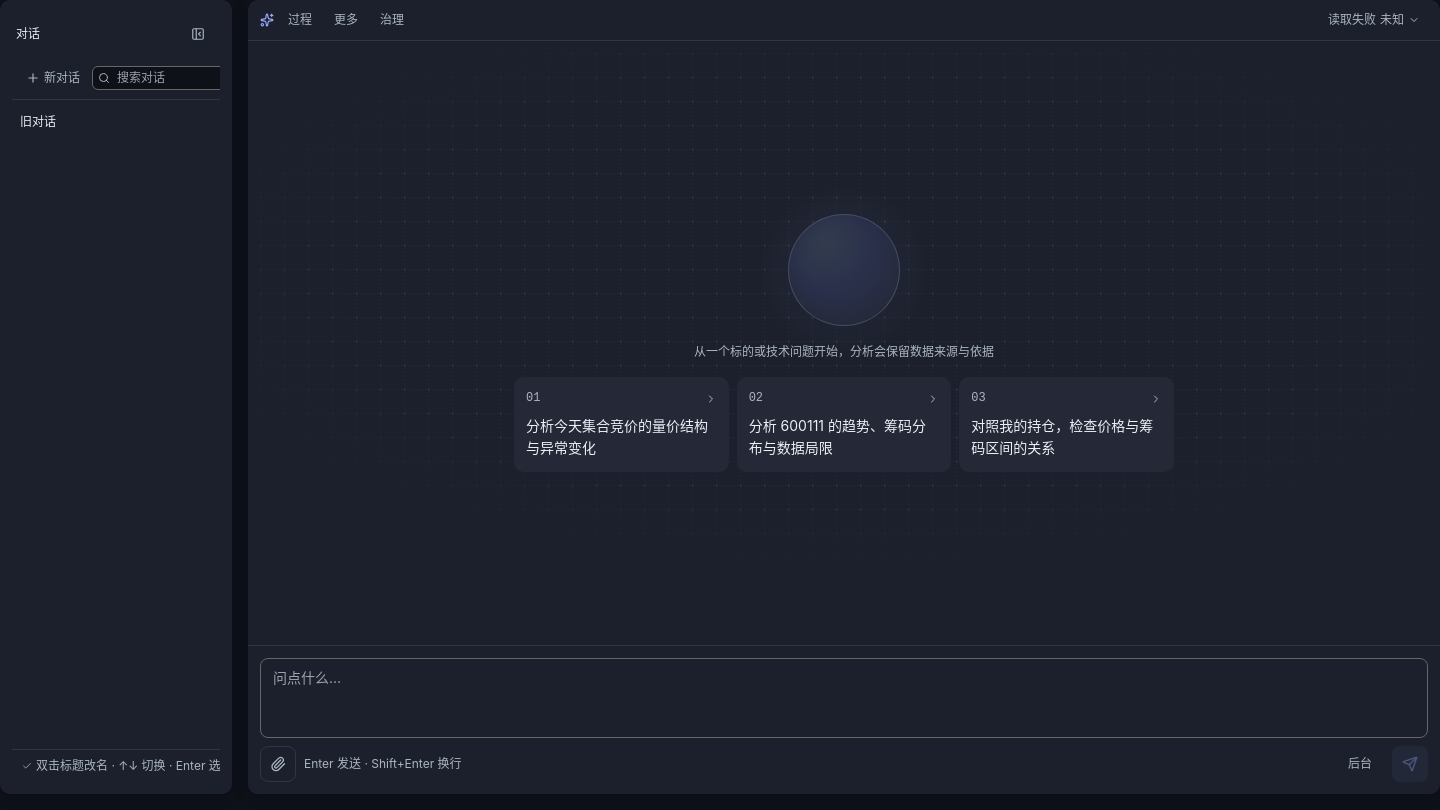
Scenario: 流中途 reject · 半截正文必须标成不完整 › 首字还没到就断流：不铺空气泡，只报错
Expected: the button named "发送" is shown, [1392, 746, 1428, 782]
Type "600111 怎么看" into the text box with placeholder "问点什么…".
click(844, 698); type("600111 怎么看")  # box [260, 658, 1428, 738]
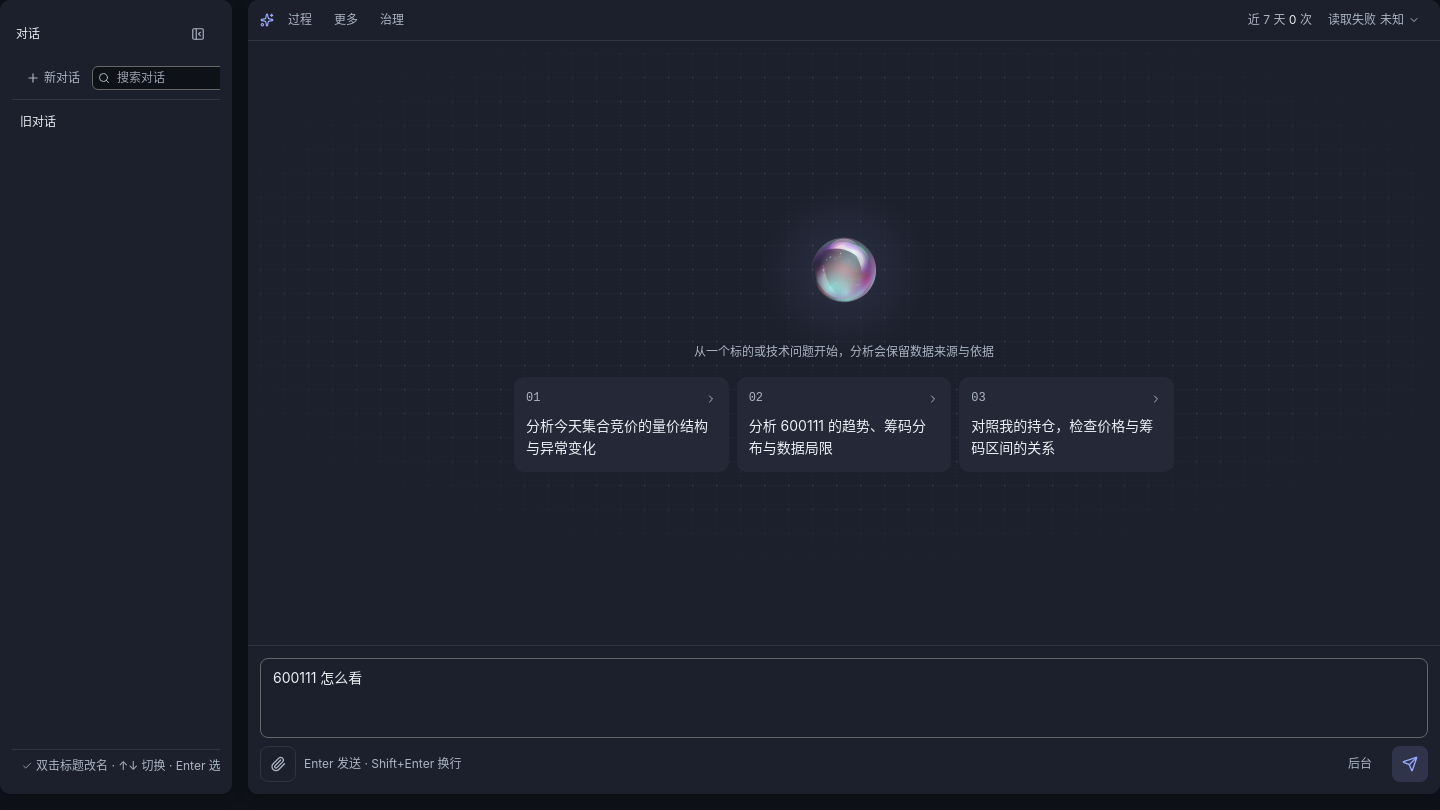
Click the button named "发送".
click(1410, 764)  # box [1392, 746, 1428, 782]
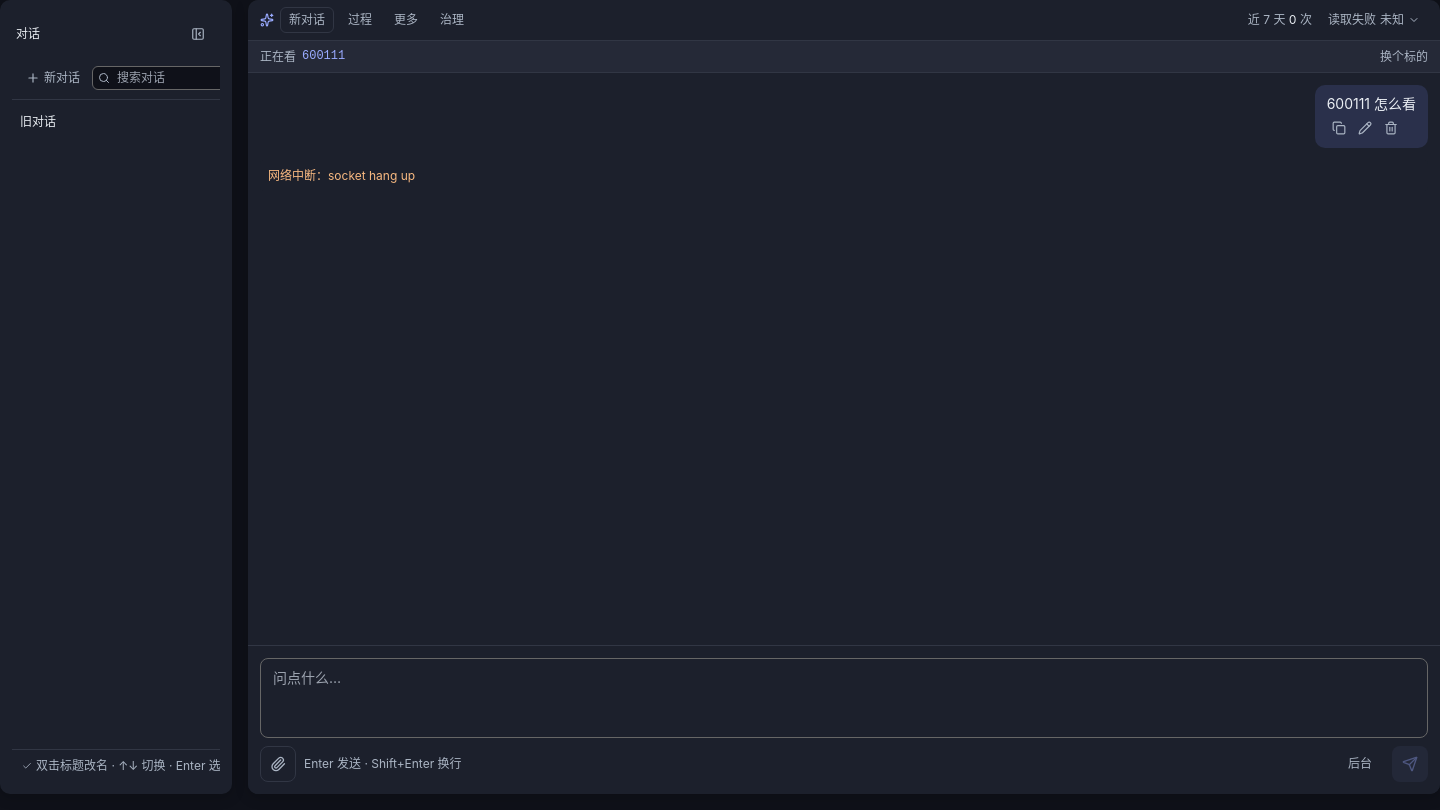
Expected: the text "网络中断：socket hang up" is shown, [260, 160, 1428, 191]
